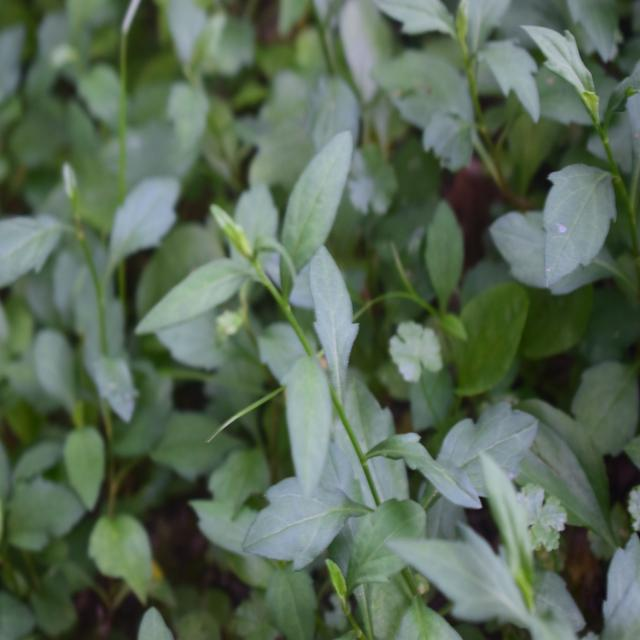Indian aster: (188, 154, 445, 548)
